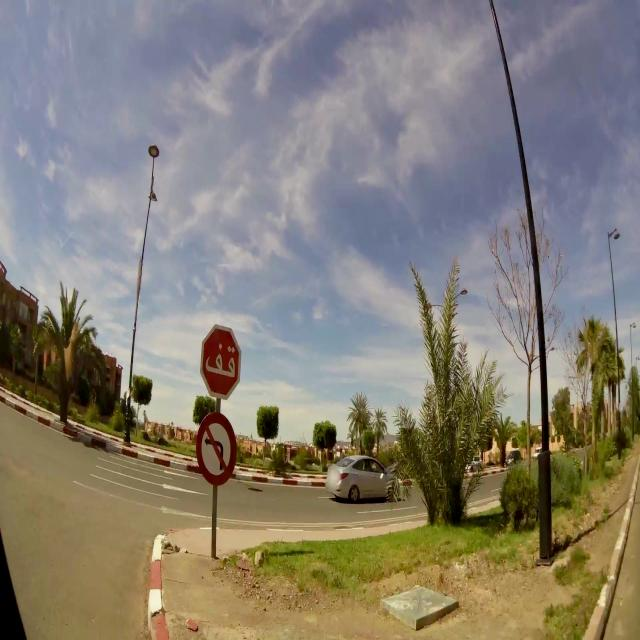car: (326, 454, 399, 504), (505, 447, 524, 467)
